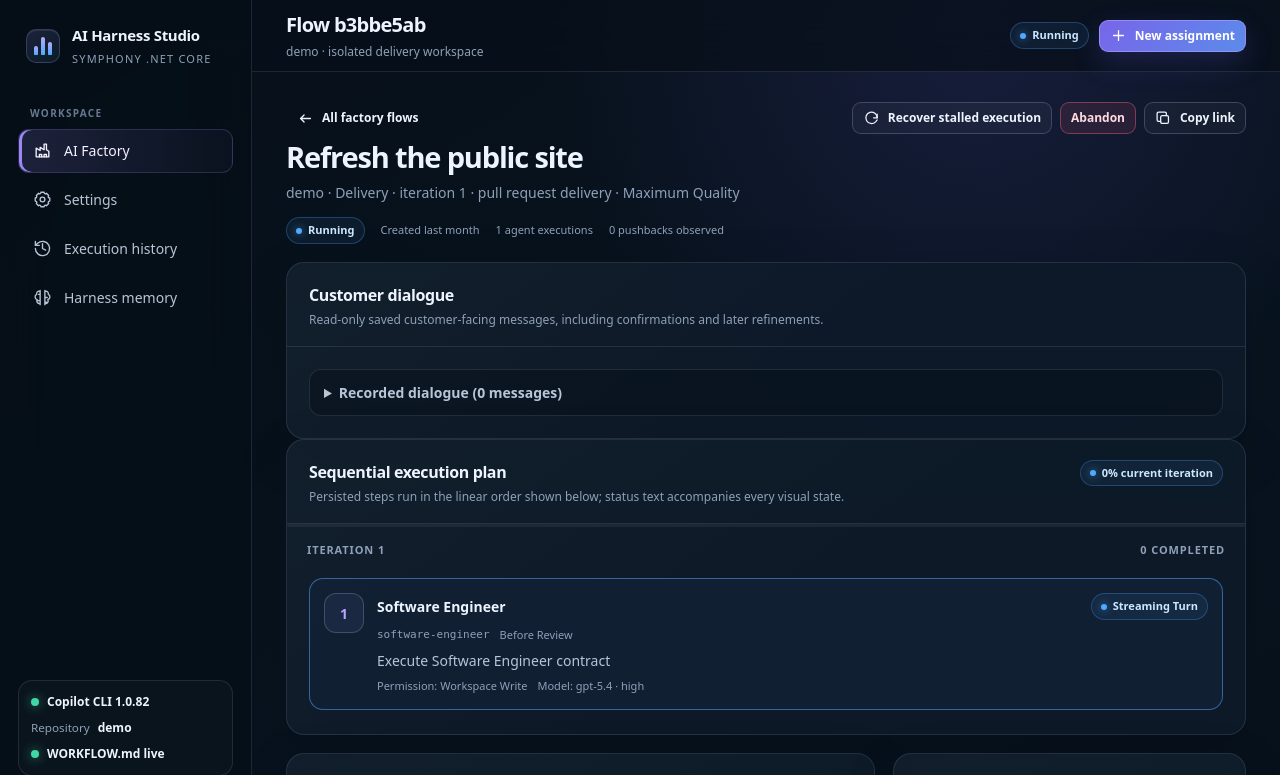
Test: FlowPage manual restart › offers guarded recovery for an execution stalled after suspension
The width and height of the screenshot is (1280, 775).
Click the button "Recover stalled execution": (952, 118) [852,102,1052,134]
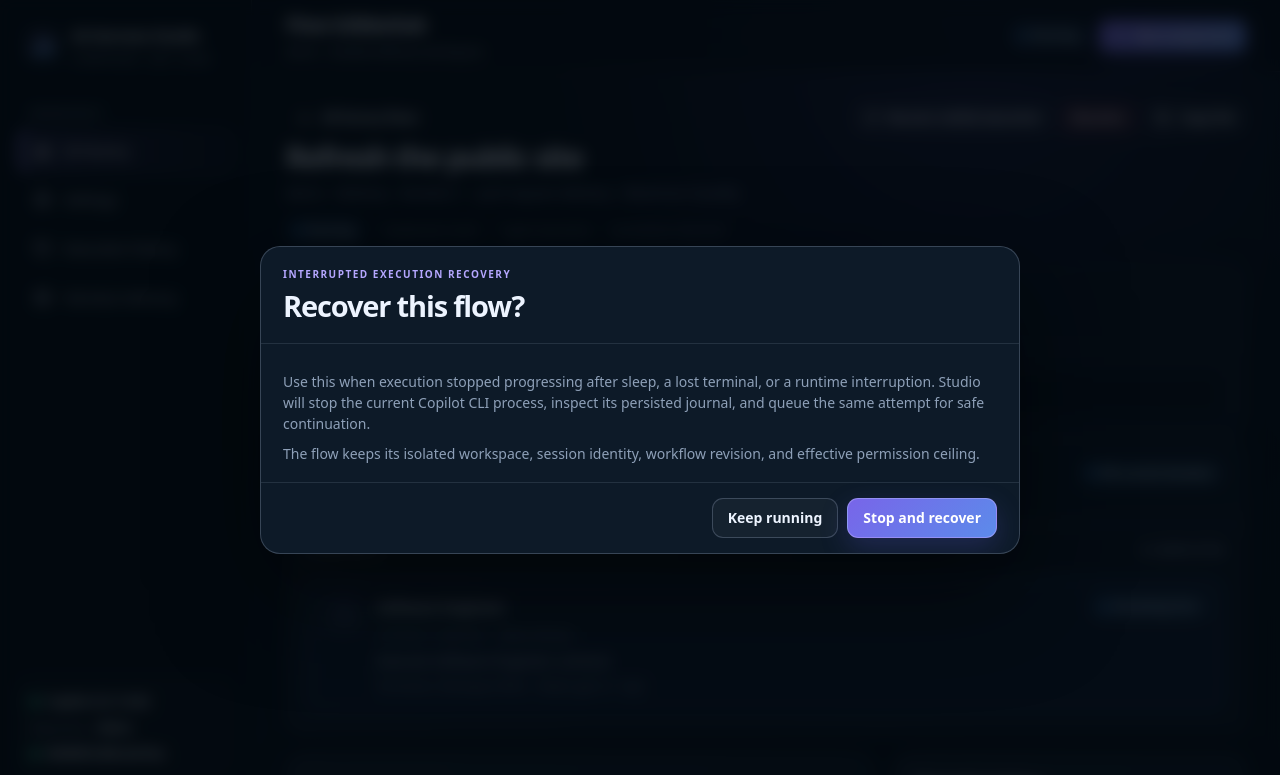
Now the dialog "Recover this flow?" is shown, box [260,246,1020,554]
Click the button "Stop and recover": (922, 518) [847,498,997,538]
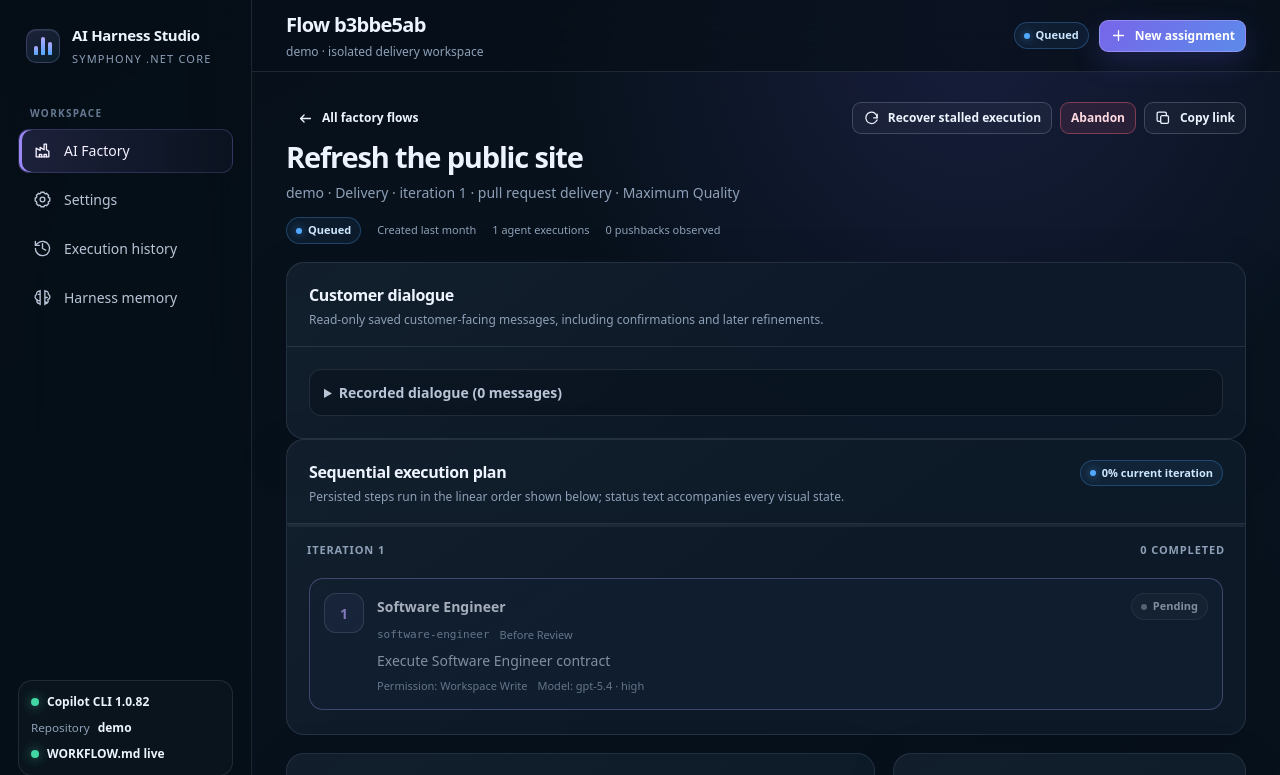
Now the heading "Recover this flow?" is gone
